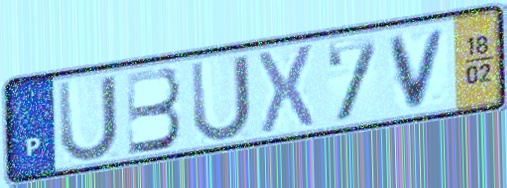7: (324, 34, 380, 125)
B: (123, 64, 185, 158)
U: (55, 71, 122, 166), (188, 51, 255, 146)
V: (386, 24, 452, 112)
X: (255, 40, 317, 137)
